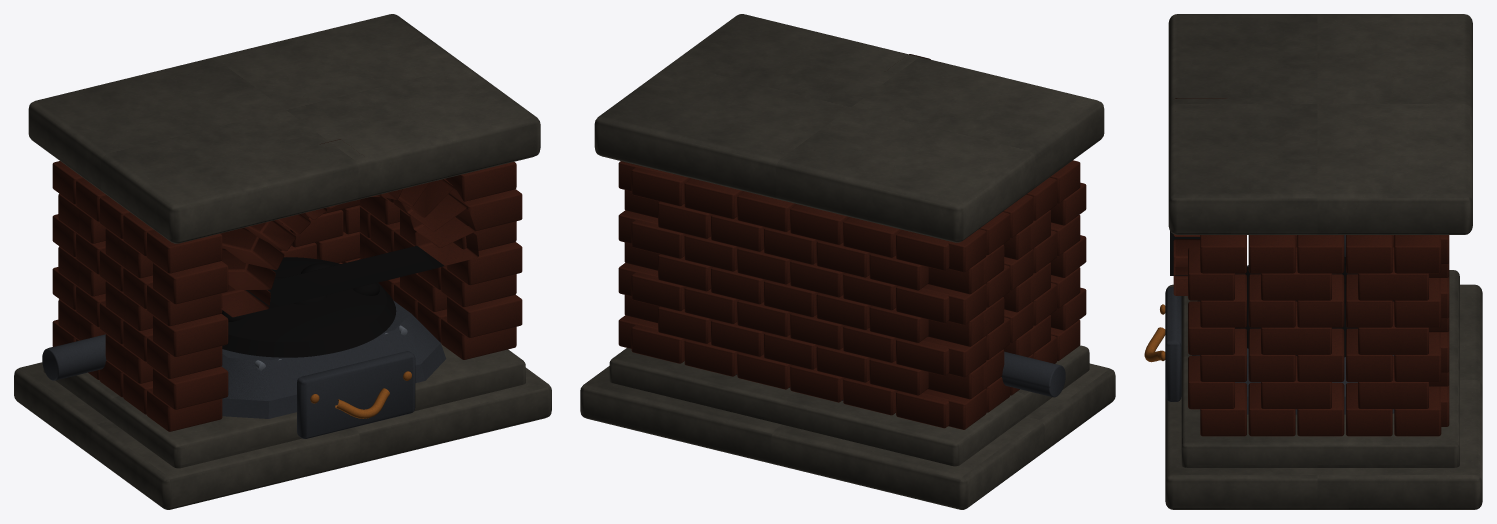
The model's file is hearth.glb.
The picture shows the model from 3 angles, left to right: view 1: azimuth 30°, elevation 25°; view 2: azimuth 150°, elevation 25°; view 3: azimuth 270°, elevation 25°; orthographic projection. The views are drawn at different scales.
Parts seen in each view (by area): view 1: hearth; view 2: hearth; view 3: hearth.
Boxes of the visible parts, box(x1,y1,x2,y2) form: hearth: box(14, 14, 551, 509); hearth: box(580, 14, 1115, 509); hearth: box(1144, 14, 1482, 509).
Size of the model in its own units: 3.06 by 2.13 by 2.09.
6 materials, 6 textured.
